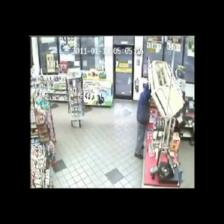person: (135, 84, 151, 158)
